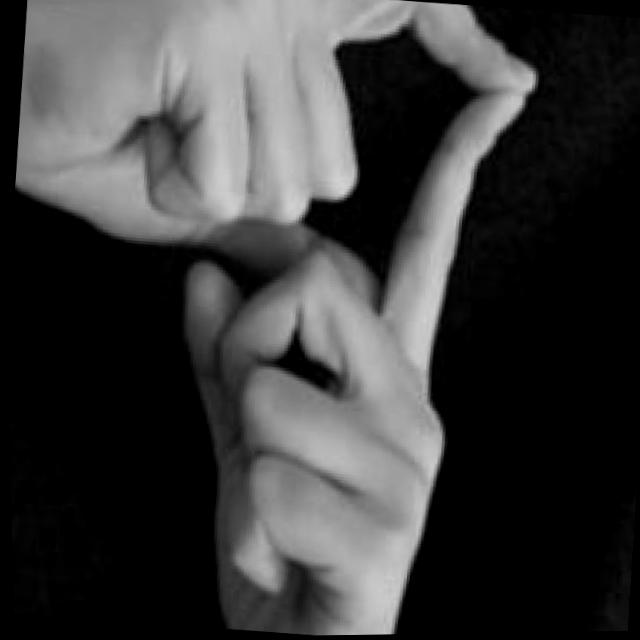D: (29, 0, 553, 479)
